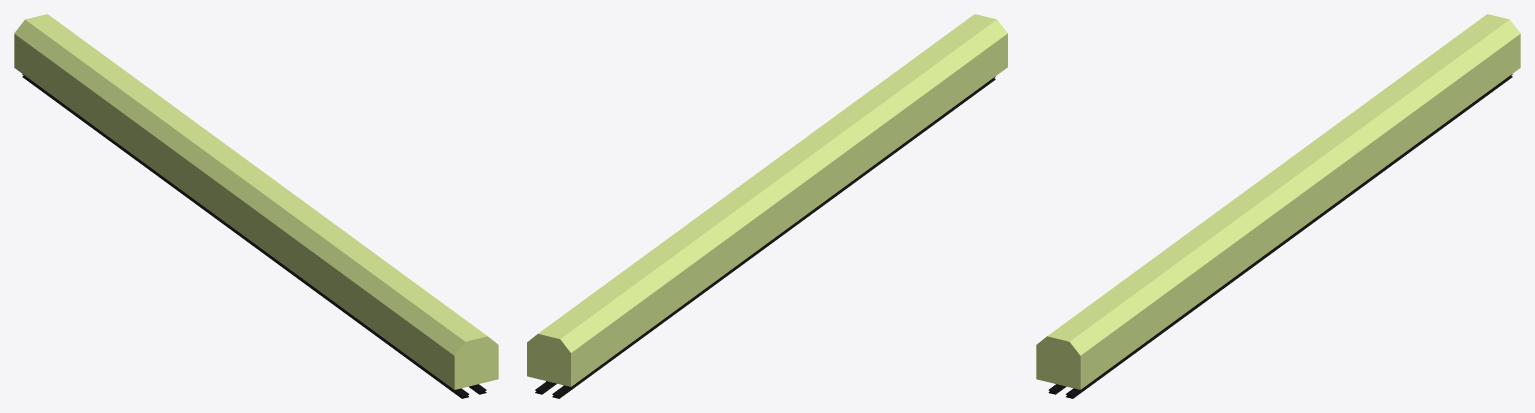
Rendered from TopRail.obj.
3 views of the same model, side by side, from view 1: azimuth 30°, elevation 25°; view 2: azimuth 150°, elevation 25°; view 3: azimuth 330°, elevation 25° (orthographic).
Parts seen in each view (by area): view 1: Top_Rail; view 2: Top_Rail; view 3: Top_Rail.
Boxes of the visible parts, left/top/right/bottom form: Top_Rail: left=14, top=14, right=498, bottom=398; Top_Rail: left=527, top=14, right=1007, bottom=398; Top_Rail: left=1036, top=14, right=1520, bottom=398.
Bounding box in the file's own units: 407 × 515 × 7028.
